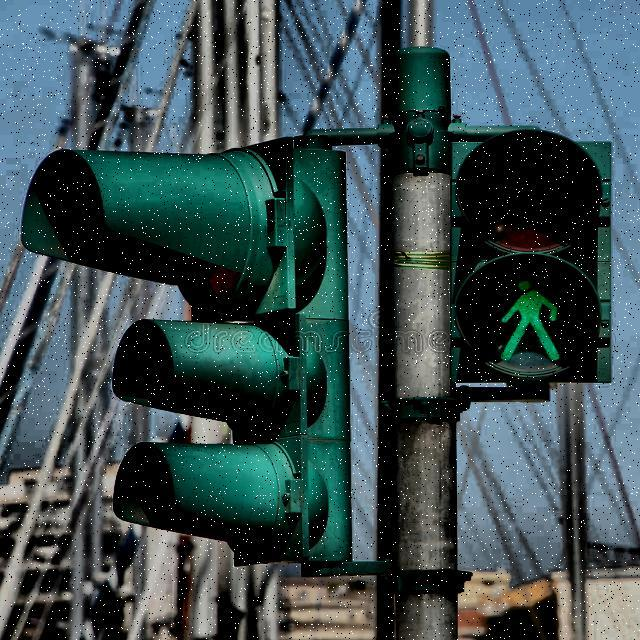green_light: (492, 274, 564, 367)
